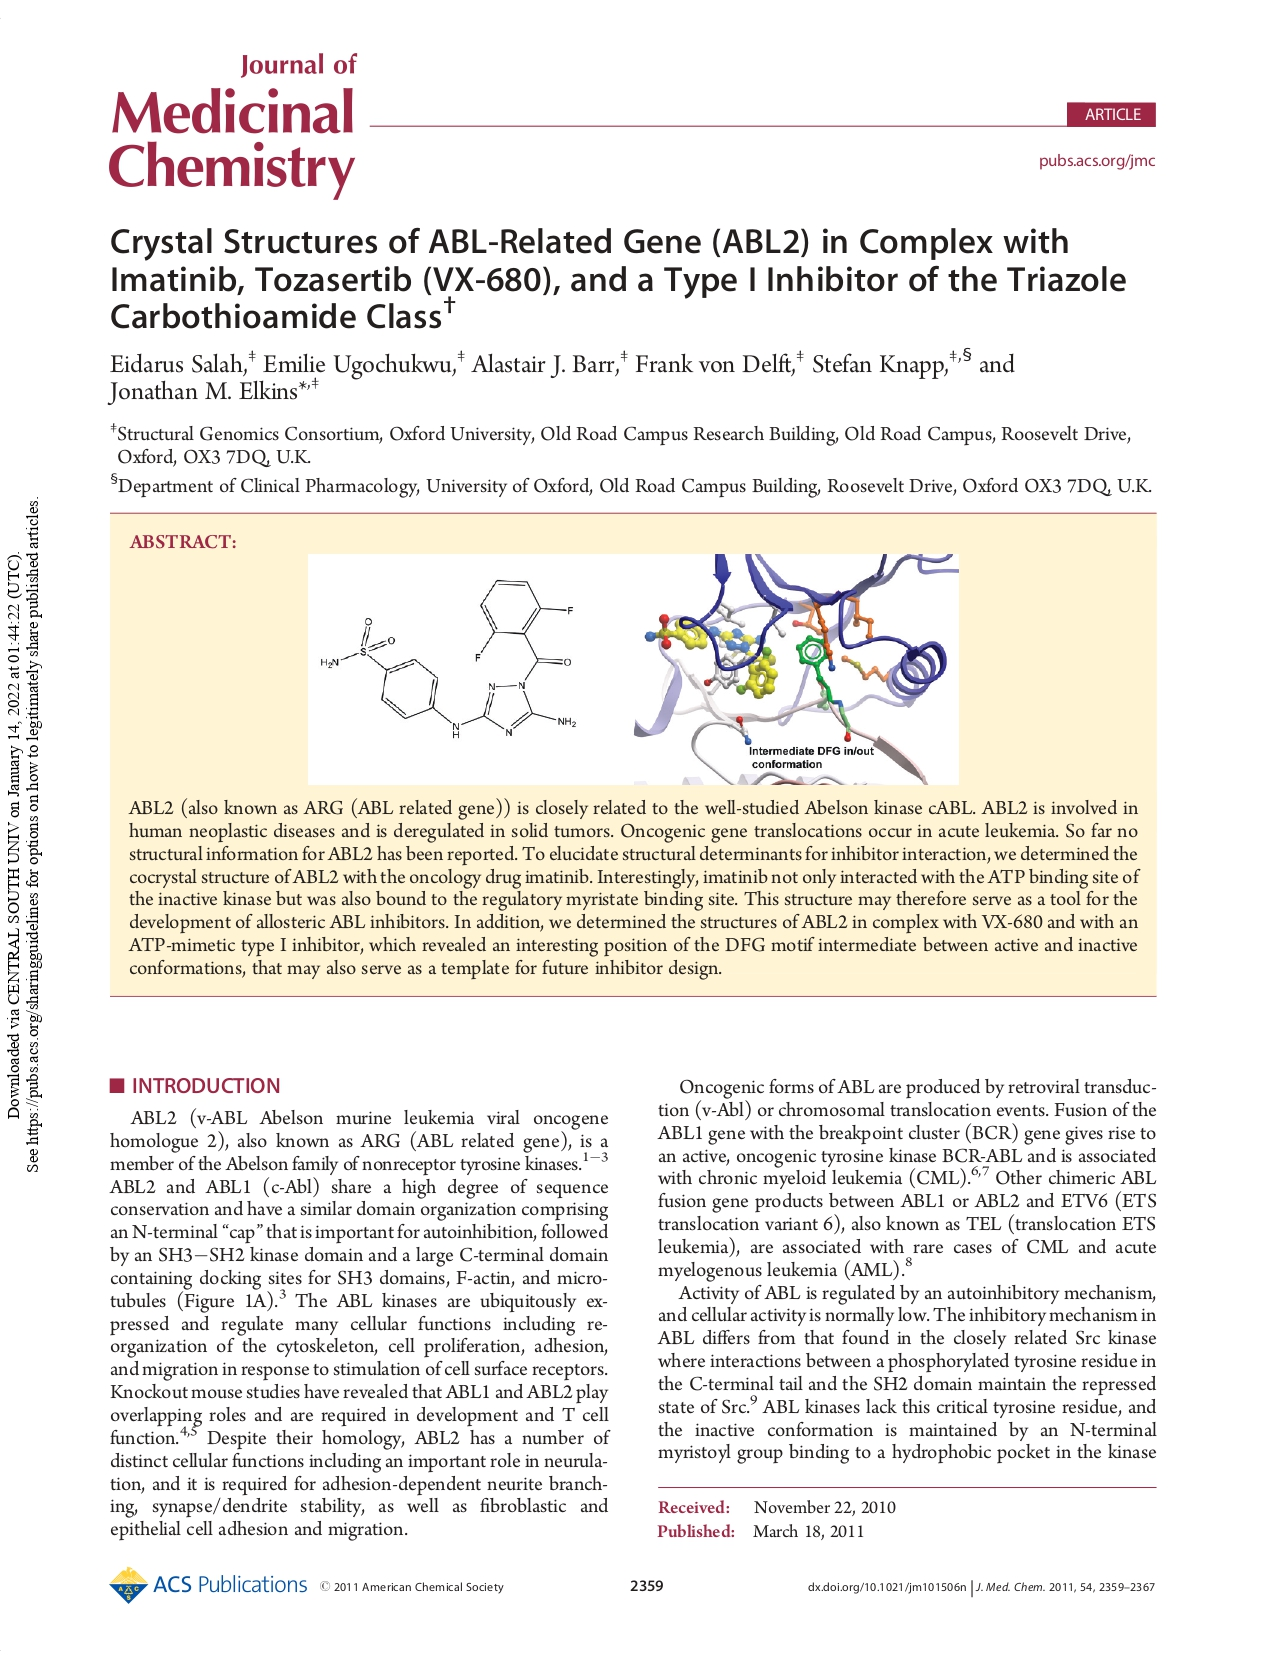exist_molecular: (316, 575, 580, 747)
